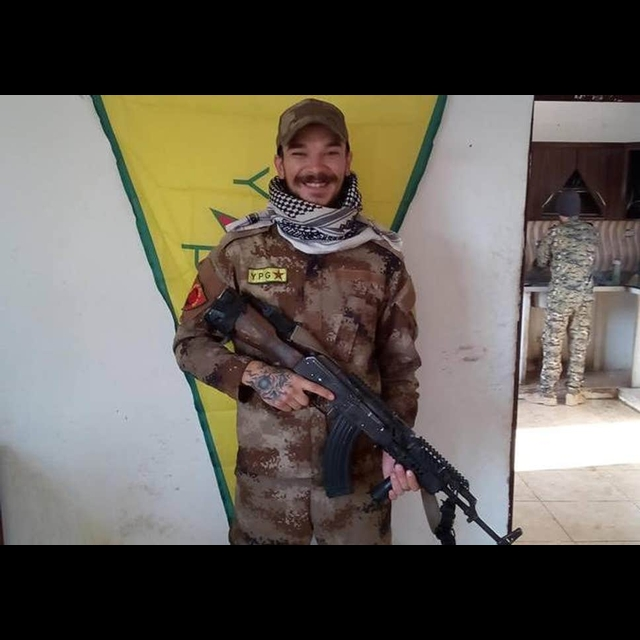YPG: (245, 261, 290, 288)
